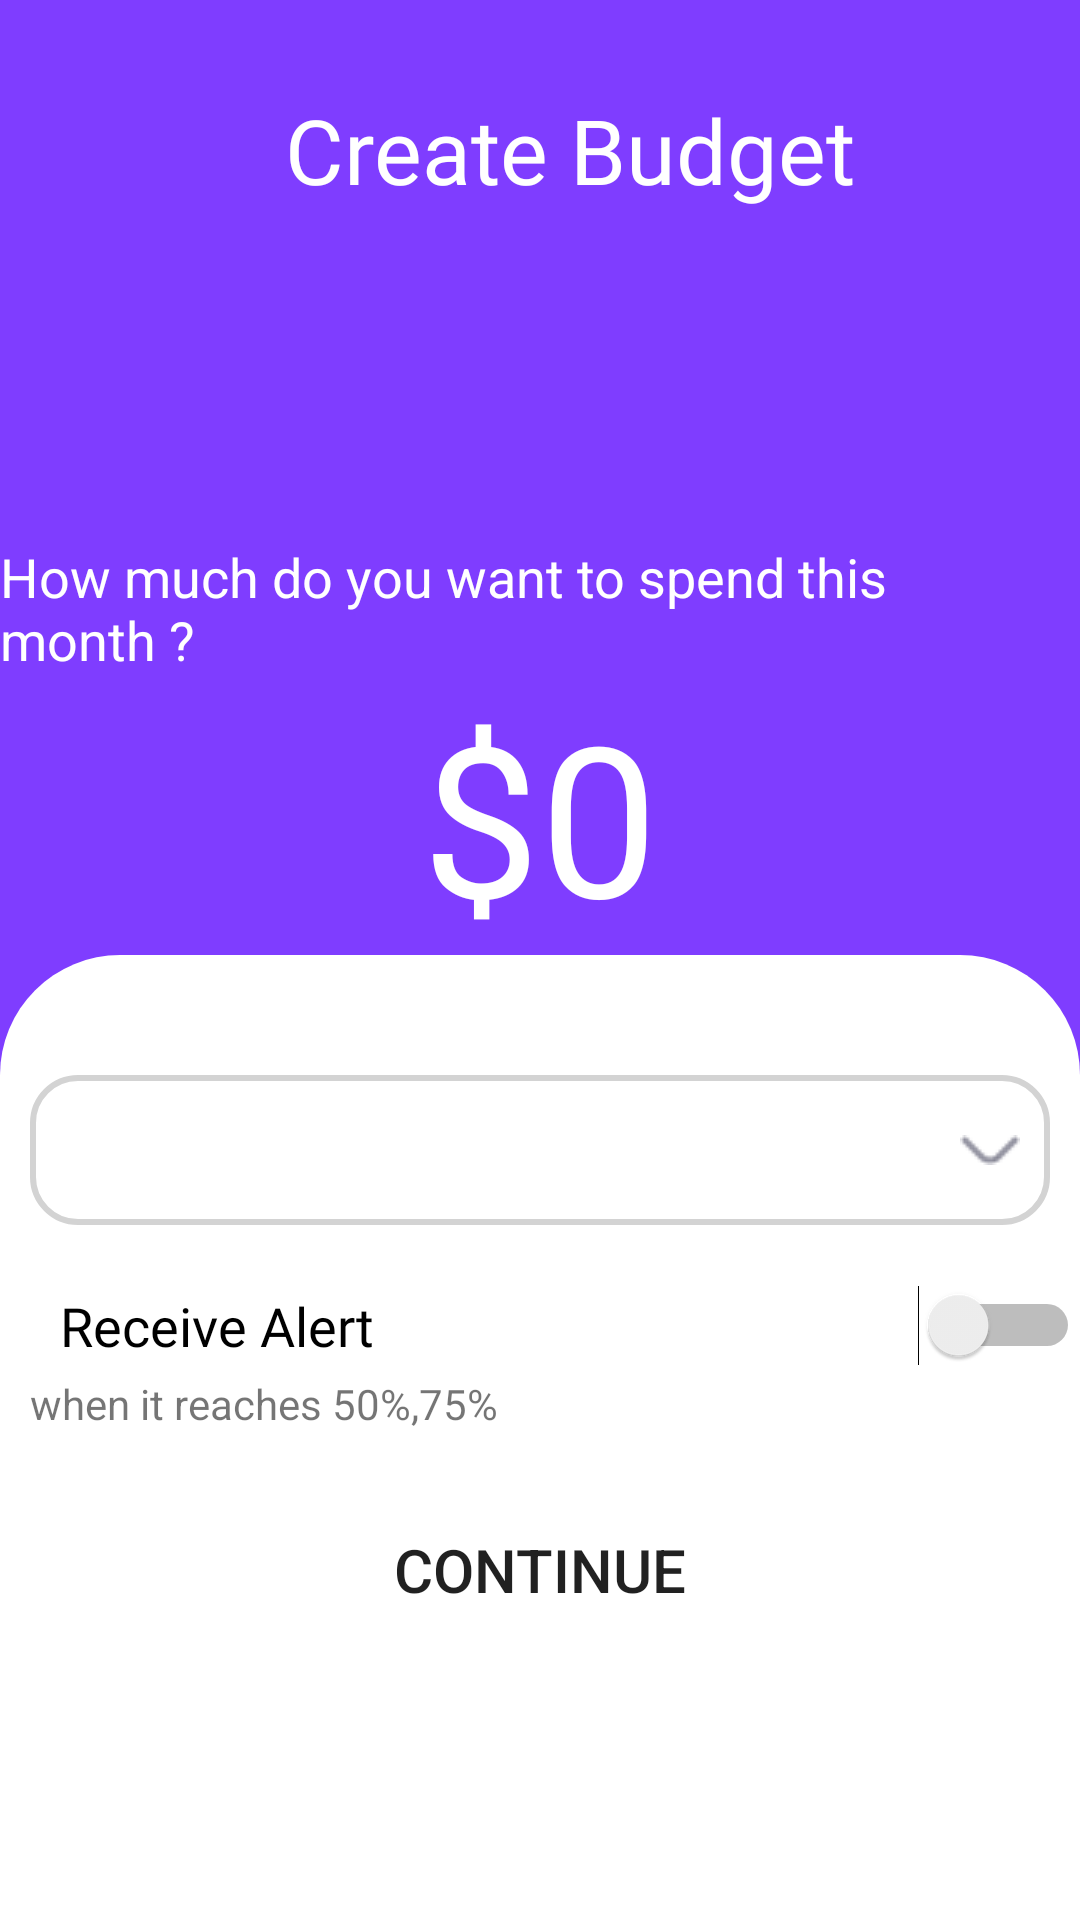

Icons on this 1080 x 1920 Android screen, each with the point to tap as (x,y):
arrow down: (990,1150)
